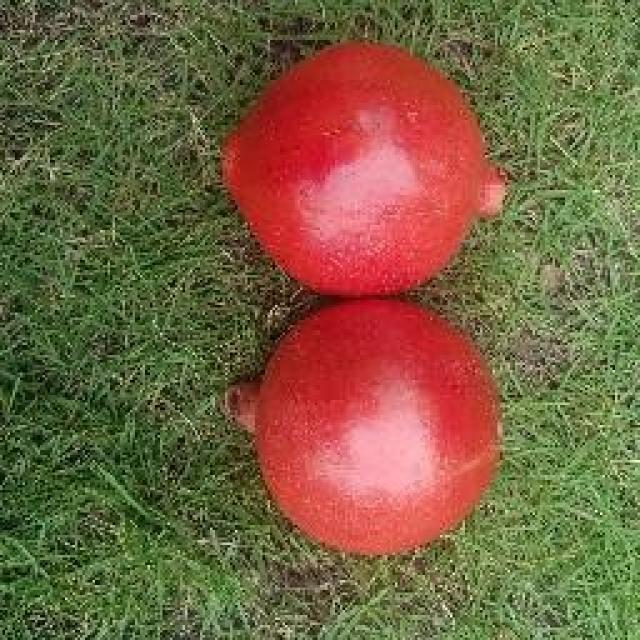Ripe: (210, 294, 510, 560), (212, 39, 509, 293)
